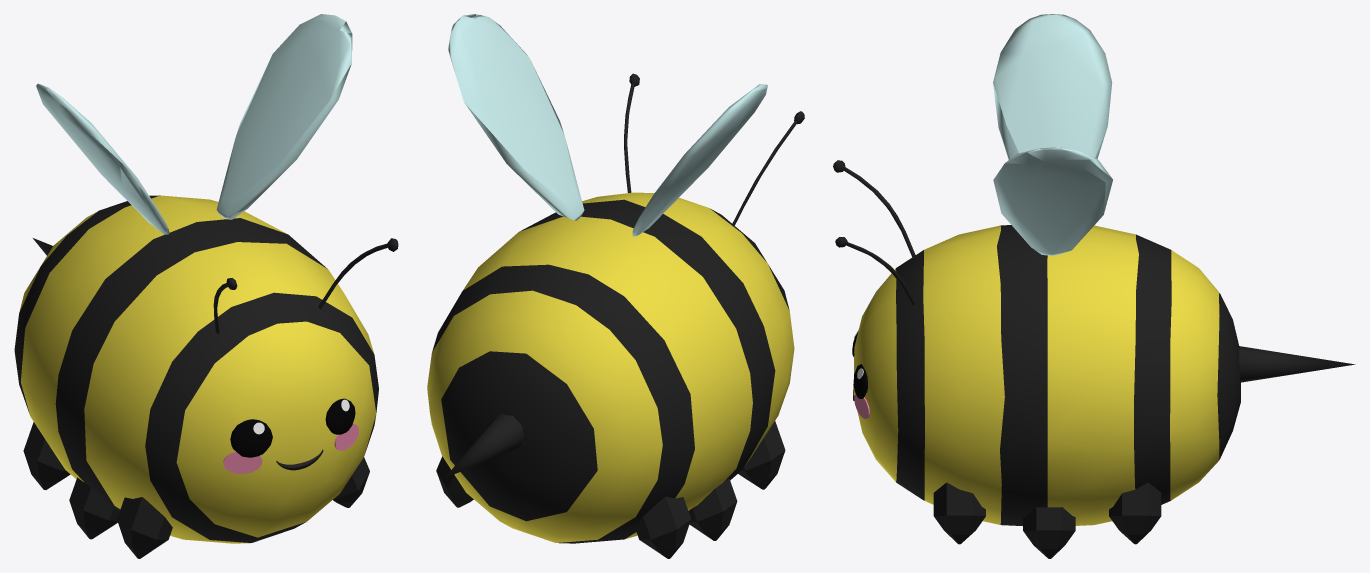
File: BEEOptimized.fbx
3 renders of one model, left to right at view 1: azimuth 30°, elevation 25°; view 2: azimuth 150°, elevation 25°; view 3: azimuth 270°, elevation 25°, orthographic. The views are drawn at different scales.
Parts seen in each view (by area): view 1: body, fly r, Cylinder, fly l, eye r, eye l, cheek r, antennae l; view 2: body, fly r, Cylinder, fly l, Cone, antennae l, antennae r; view 3: body, fly l, fly r, Cylinder, Cone, antennae r.
Part boxes in pixels (x1=…): body: x1=14, y1=195, x2=378, y2=543; fly r: x1=216, y1=14, x2=352, y2=219; Cylinder: x1=23, y1=422, x2=369, y2=558; fly l: x1=36, y1=83, x2=169, y2=234; eye r: x1=230, y1=419, x2=272, y2=457; eye l: x1=325, y1=398, x2=355, y2=434; cheek r: x1=223, y1=451, x2=262, y2=473; antennae l: x1=318, y1=238, x2=398, y2=308; body: x1=427, y1=192, x2=794, y2=543; fly r: x1=448, y1=14, x2=584, y2=220; Cylinder: x1=436, y1=421, x2=785, y2=558; fly l: x1=632, y1=84, x2=767, y2=236; Cone: x1=445, y1=413, x2=524, y2=477; antennae l: x1=624, y1=73, x2=639, y2=192; antennae r: x1=732, y1=111, x2=804, y2=226; body: x1=853, y1=225, x2=1240, y2=525; fly l: x1=993, y1=14, x2=1112, y2=159; fly r: x1=993, y1=147, x2=1112, y2=255; Cylinder: x1=933, y1=482, x2=1161, y2=558; Cone: x1=1239, y1=346, x2=1355, y2=382; antennae r: x1=833, y1=160, x2=915, y2=256.
Bounding box in the file's own units: 210 × 313 × 343.
